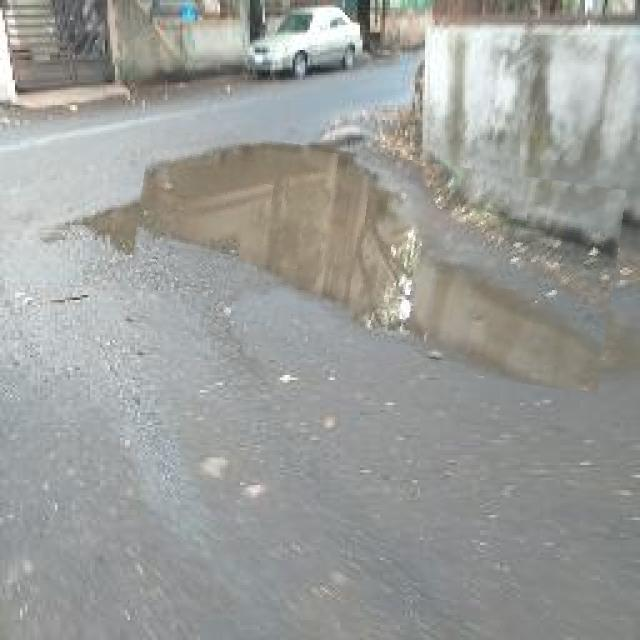puddle: (130, 141, 622, 379)
